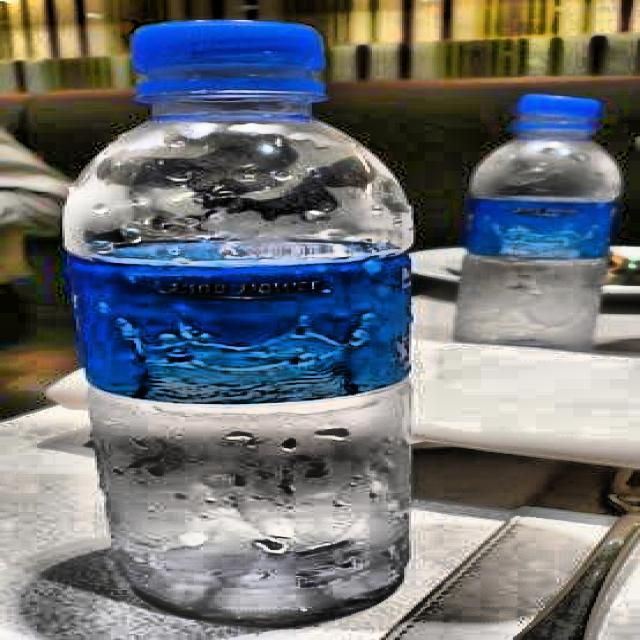Bottles: (53, 16, 450, 624), (444, 86, 622, 366)
